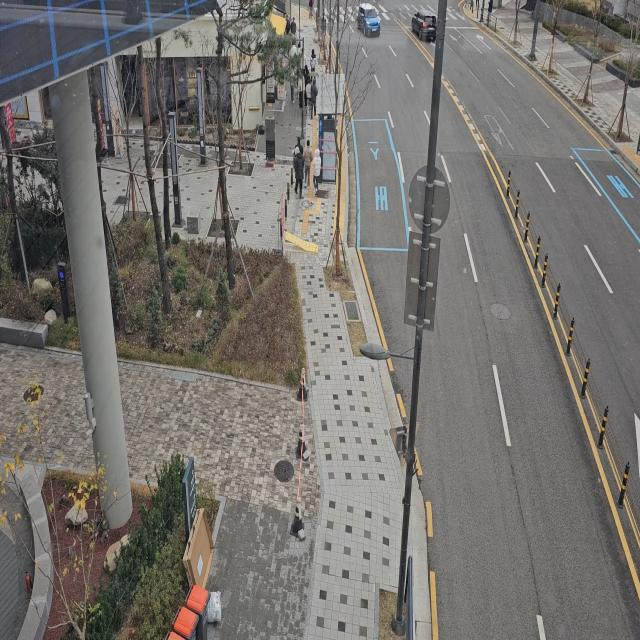Car: (409, 4, 441, 48), (356, 1, 382, 45)
